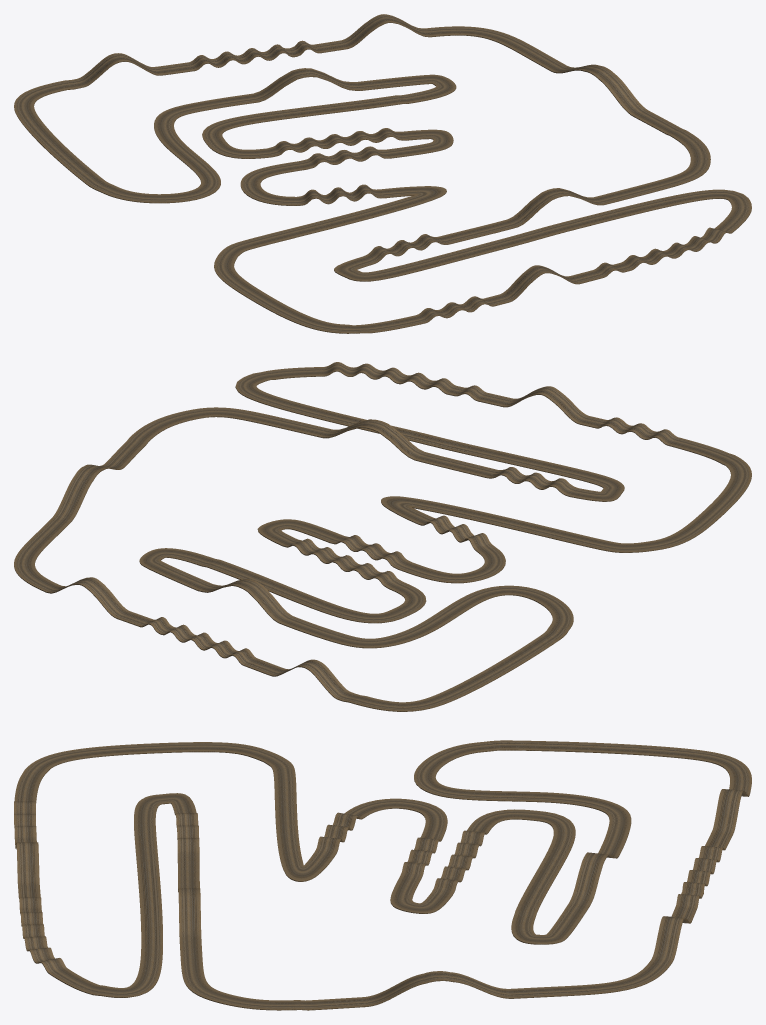
The model's file is fourth.fbx.
The picture shows the model from 3 angles, top to bottom: view 1: azimuth 30°, elevation 25°; view 2: azimuth 150°, elevation 25°; view 3: azimuth 270°, elevation 25°; orthographic projection. The views are drawn at different scales.
Visible parts, largest first — view 1: beveledSurface8; view 2: beveledSurface8; view 3: beveledSurface8.
Part boxes in pixels (box(x1,y1,x2,y2)): beveledSurface8: box(14, 14, 751, 333); beveledSurface8: box(14, 362, 751, 711); beveledSurface8: box(14, 740, 751, 1010).
Size of the model in its own units: 53.33 by 2.08 by 61.78.
1 material, 1 textured.
